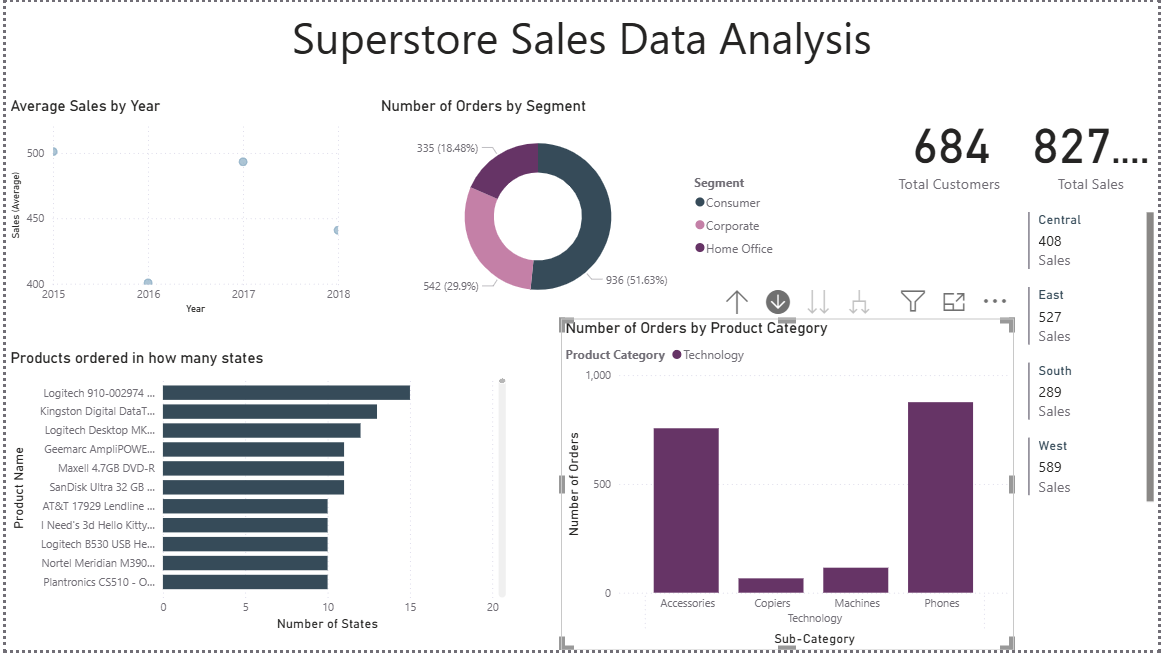

What the dashboard file says about the page in this screenshot:
{"tool":"powerbi","page":{"name":"Page 1","canvas":[1280,720],"ordinal":0},"visuals":[{"type":"scatterChart","title":"Average Sales by Year","fields":{"Y":["Avg(train.Sales)"],"X":["train.Order Year"]},"box":[0,105,386.7,246.7],"z":0},{"type":"card","fields":{"Values":["Count(train.Customer ID)"]},"box":[970,105,160,116.7],"z":1000},{"type":"clusteredBarChart","title":"Products ordered in how many states","fields":{"Category":["train.Product Name"],"Y":["CountNonNull(train.State)"]},"box":[0,385,560,318.3],"z":2000},{"type":"multiRowCard","fields":{"Values":["train.Region","CountNonNull(train.Sales (bins))"]},"box":[1130,228.3,150,343.3],"z":3000},{"type":"clusteredColumnChart","title":"Number of Orders by Product Category ","fields":{"Category":["train.Category","train.Sub-Category"],"Y":["CountNonNull(train.Order ID)"],"Series":["train.Category"]},"box":[616.7,351.7,503.3,368.3],"z":4000},{"type":"card","fields":{"Values":["Sum(train.Sales)"]},"box":[1130,105,150,116.7],"z":5000},{"type":"donutChart","fields":{"Series":["train.Segment"],"Y":["CountNonNull(train.Order ID)"]},"box":[411.7,105,455,246.7],"z":6000},{"type":"textbox","box":[0,0,1280,81.7],"z":7000}]}

Visuals, with their boxes in screenshot pixels (x1, y1, x2, y2), scaled from the page's 1280x720 canvas onto the 1161x657 screenshot:
"Average Sales by Year" scatterChart: <box>0,96,351,321</box>
card - Count(train.Customer ID): <box>880,96,1025,202</box>
"Products ordered in how many states" clusteredBarChart: <box>0,351,508,642</box>
multiRowCard - train.Region x CountNonNull(train.Sales (bins)): <box>1025,208,1160,522</box>
"Number of Orders by Product Category " clusteredColumnChart: <box>559,321,1016,656</box>
card - Sum(train.Sales): <box>1025,96,1160,202</box>
donutChart - train.Segment x CountNonNull(train.Order ID): <box>373,96,786,321</box>
textbox: <box>0,0,1160,75</box>
